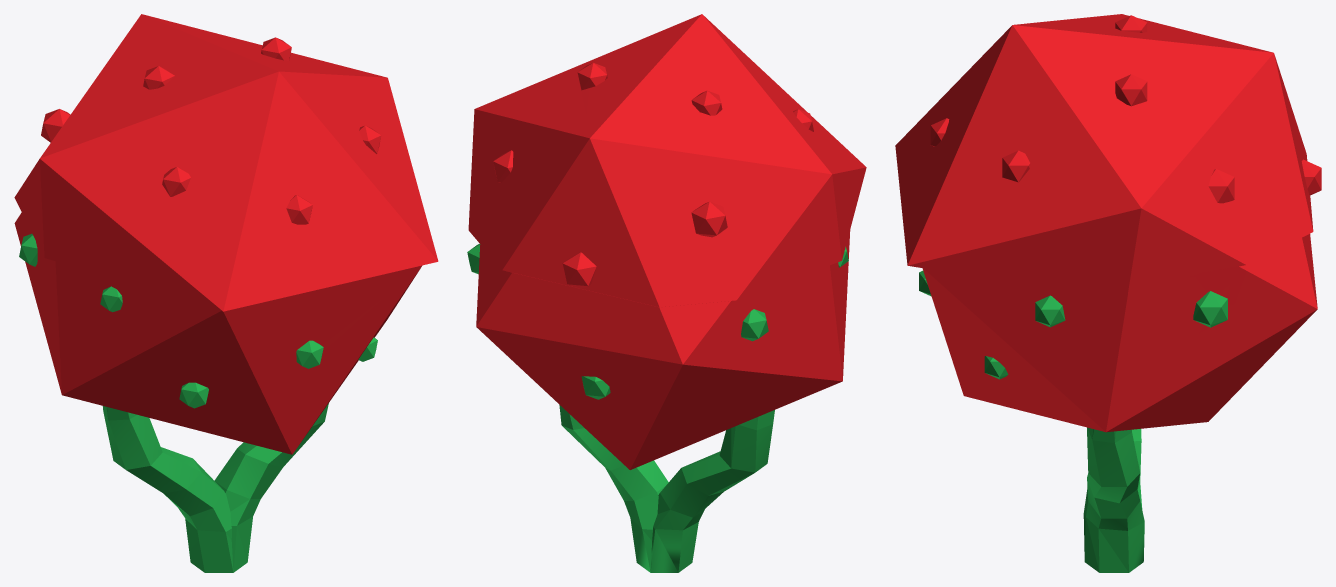
Rendered from Bush2With.obj.
3 views of the same model, side by side, from view 1: azimuth 30°, elevation 25°; view 2: azimuth 150°, elevation 25°; view 3: azimuth 270°, elevation 25° (orthographic). The views are drawn at different scales.
Visible parts, largest first — view 1: Cylinder.016; view 2: Cylinder.016; view 3: Cylinder.016.
Part boxes in pixels (left/top/right/bottom): Cylinder.016: left=14, top=14, right=438, bottom=572; Cylinder.016: left=467, top=14, right=866, bottom=572; Cylinder.016: left=895, top=14, right=1321, bottom=572.
Bounding box in the file's own units: 0.6987 × 0.972 × 0.6921.
